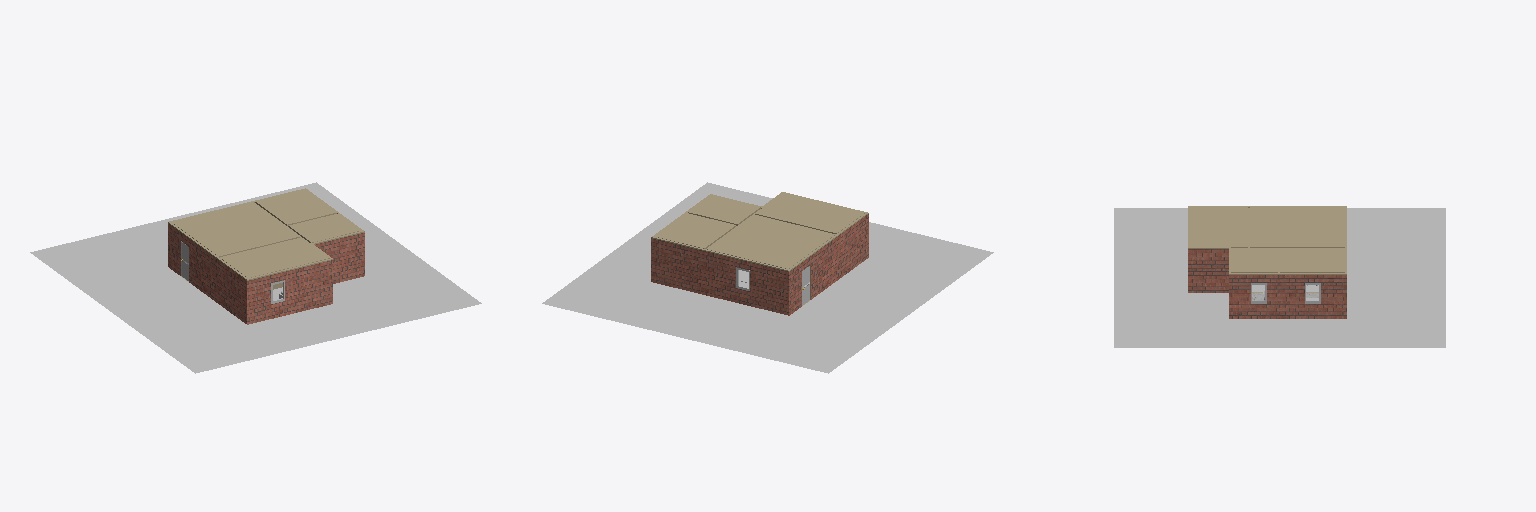
The picture shows the model from 3 angles: view 1: azimuth 30°, elevation 25°; view 2: azimuth 150°, elevation 25°; view 3: azimuth 270°, elevation 25°; orthographic projection.
Parts seen in each view (by area): view 1: Plane, roof_Plane.007, walls_outer_Plane.005, walls_Plane.001; view 2: Plane, roof_Plane.007, walls_outer_Plane.005, walls_Plane.001; view 3: Plane, roof_Plane.007, walls_outer_Plane.005, walls_Plane.001.
Part boxes in pixels (bbox=[...]): Plane: bbox=[30, 182, 481, 373]; roof_Plane.007: bbox=[172, 189, 360, 277]; walls_outer_Plane.005: bbox=[168, 224, 364, 324]; walls_Plane.001: bbox=[168, 188, 364, 289]; Plane: bbox=[542, 182, 993, 373]; roof_Plane.007: bbox=[655, 193, 864, 268]; walls_outer_Plane.005: bbox=[651, 214, 868, 315]; walls_Plane.001: bbox=[651, 192, 868, 304]; Plane: bbox=[1114, 208, 1445, 347]; roof_Plane.007: bbox=[1191, 207, 1344, 272]; walls_outer_Plane.005: bbox=[1188, 249, 1346, 318]; walls_Plane.001: bbox=[1188, 206, 1346, 292].
Size of the model in its own units: 17.8 by 2.78 by 17.8.
21 materials, 7 textured.